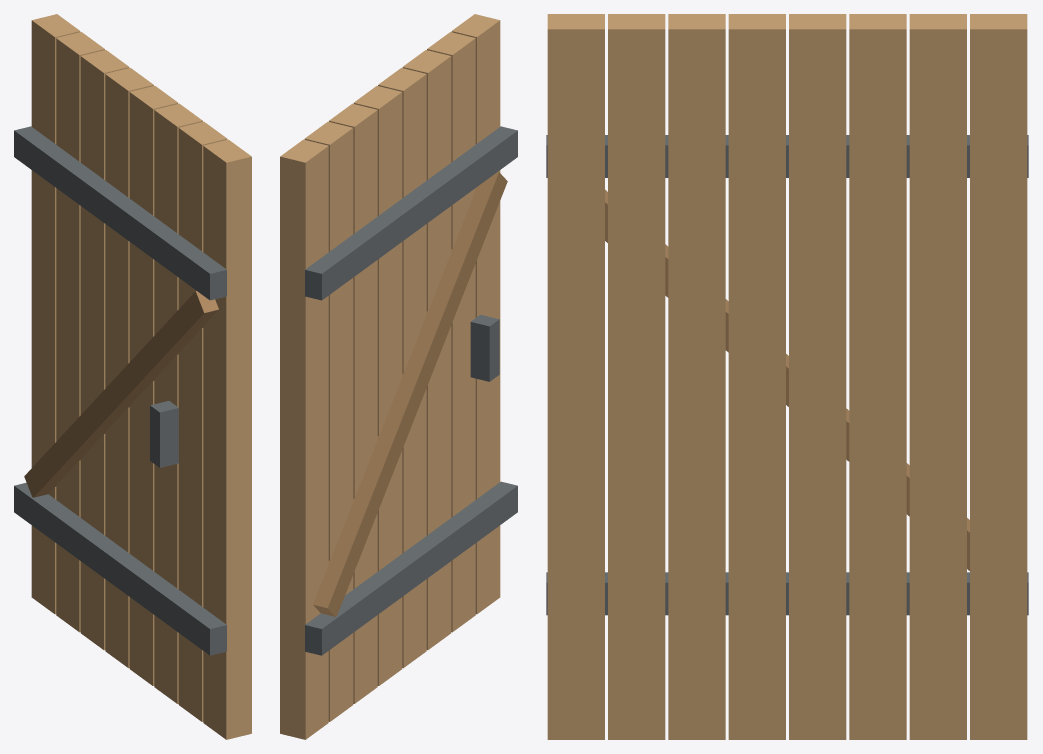
The model's file is timber-gate-single-open.glb.
The picture shows the model from 3 angles, left to right: view 1: azimuth 30°, elevation 25°; view 2: azimuth 150°, elevation 25°; view 3: azimuth 270°, elevation 25°; orthographic projection. The views are drawn at different scales.
Visible parts, largest first — view 1: hinged-gate-leaf (×3); view 2: hinged-gate-leaf (×3); view 3: hinged-gate-leaf (×3).
Boxes of the visible parts, box(x1,y1,x2,y2) form: hinged-gate-leaf (×3): box(14, 14, 251, 739); hinged-gate-leaf (×3): box(280, 14, 517, 739); hinged-gate-leaf (×3): box(546, 14, 1028, 739).
Bounding box in the file's own units: 0.275 × 2.6 × 1.6.
